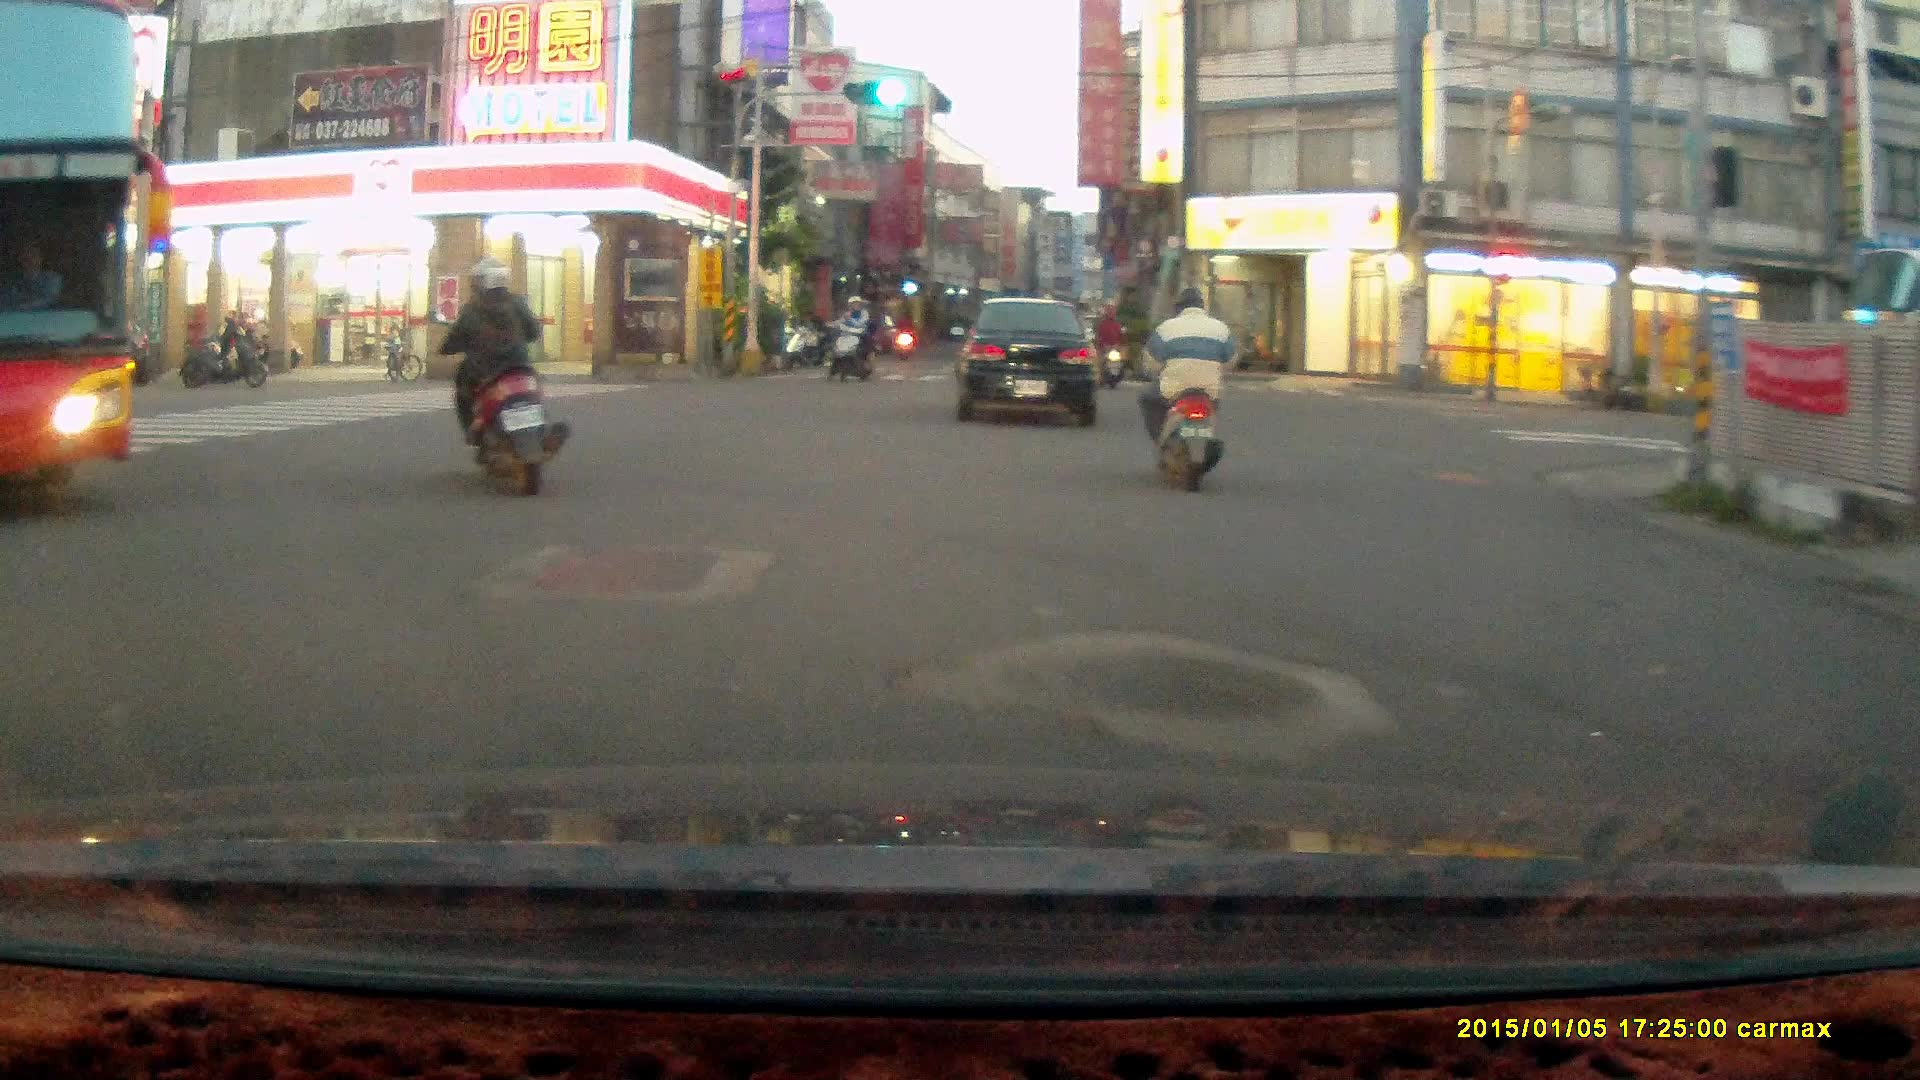rider: (425, 255, 566, 494), (1138, 286, 1229, 494), (826, 292, 881, 384), (1091, 301, 1129, 390)
vehicle: (1, 3, 141, 519), (956, 297, 1102, 430)
